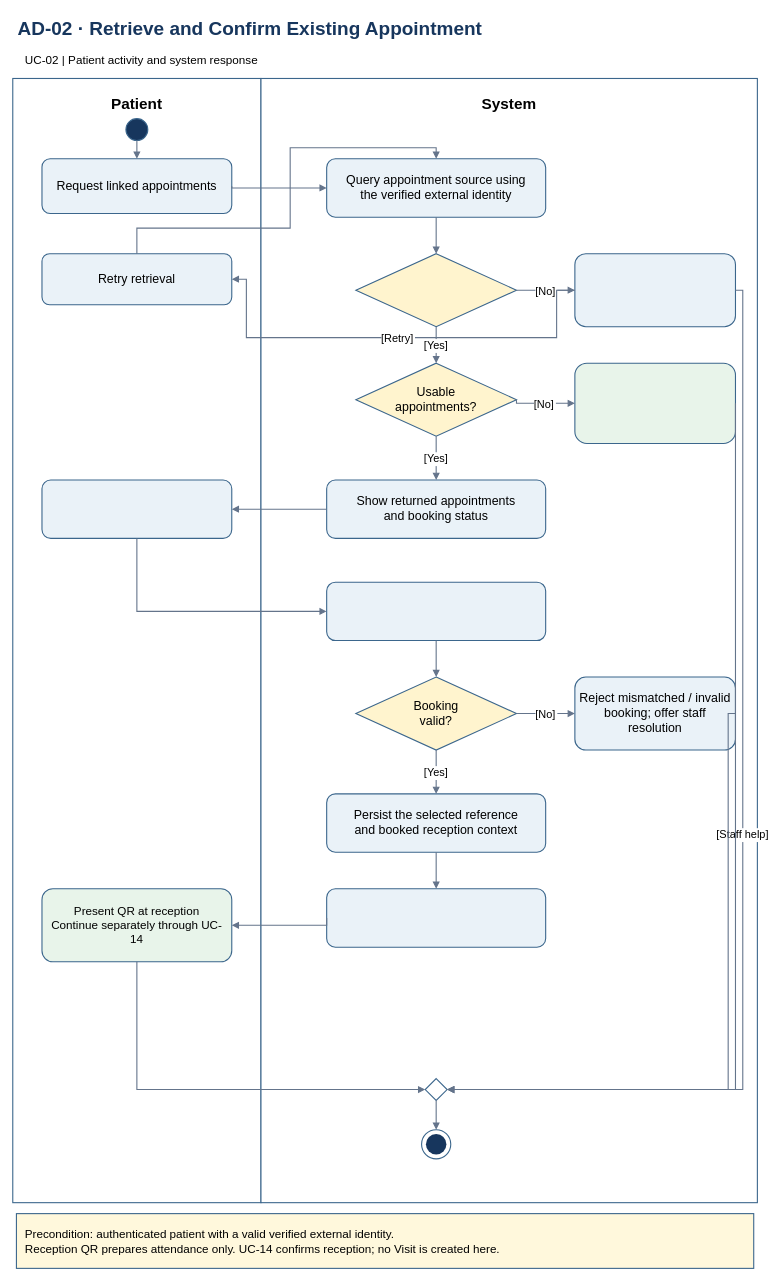
Some shapes in this 783 by 1281 pixel diagram are drawn without their labels. Here are the shapes that lost their labels. From the top down, the centre of each, then its label:
At (x=436, y=290): "Provider responded?".
At (x=655, y=290): "Show timeout; offer retry or reception assistance".
At (x=655, y=403): "Offer UC-03 walk-in preparation or staff check of a supplied booking reference".
At (x=136, y=509): "Select and confirm the intended appointment".
At (x=436, y=611): "Validate booking status and patient / identity association".
At (x=436, y=917): "Issue reception QR; explain that staff confirmation is required".
